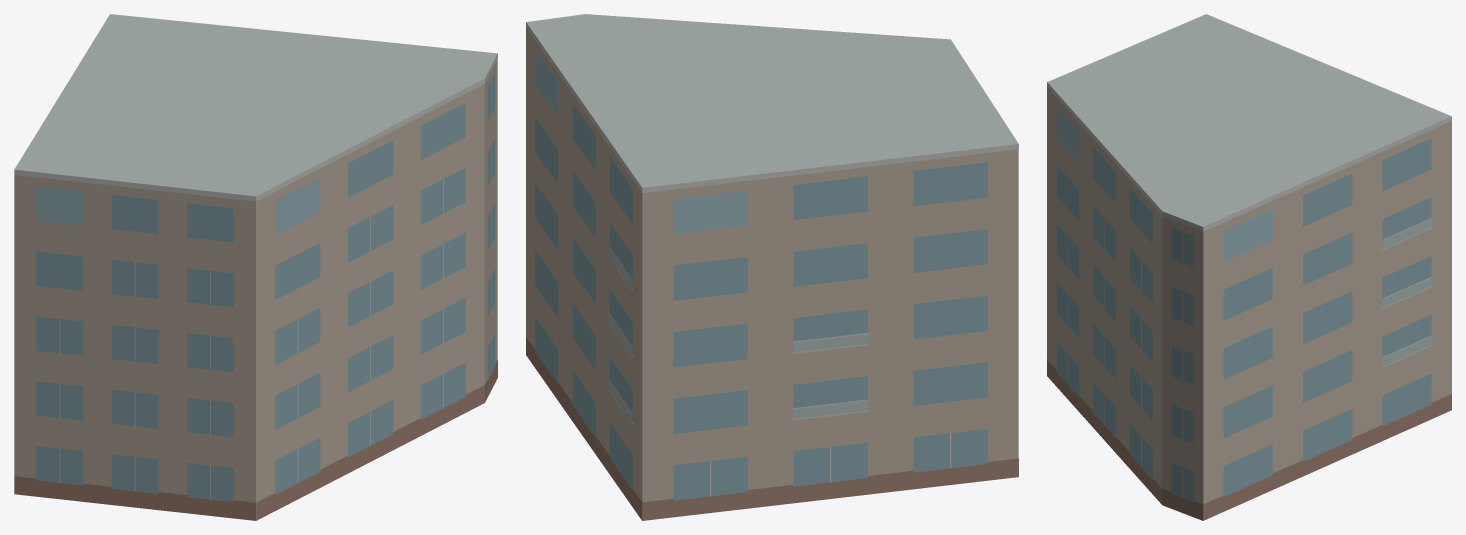
The model's file is survey-upis-32688352.glb.
3 views of the same model, side by side, from view 1: azimuth 30°, elevation 25°; view 2: azimuth 150°, elevation 25°; view 3: azimuth 270°, elevation 25° (orthographic). The views are drawn at different scales.
Visible parts, largest first — view 1: survey-upis-32688352.tmp; view 2: survey-upis-32688352.tmp; view 3: survey-upis-32688352.tmp.
Boxes of the visible parts, <box> form: survey-upis-32688352.tmp: <box>14,14,497,520</box>; survey-upis-32688352.tmp: <box>526,14,1018,520</box>; survey-upis-32688352.tmp: <box>1047,14,1451,520</box>.
Size of the model in its own units: 23.63 by 15.2 by 18.98.
